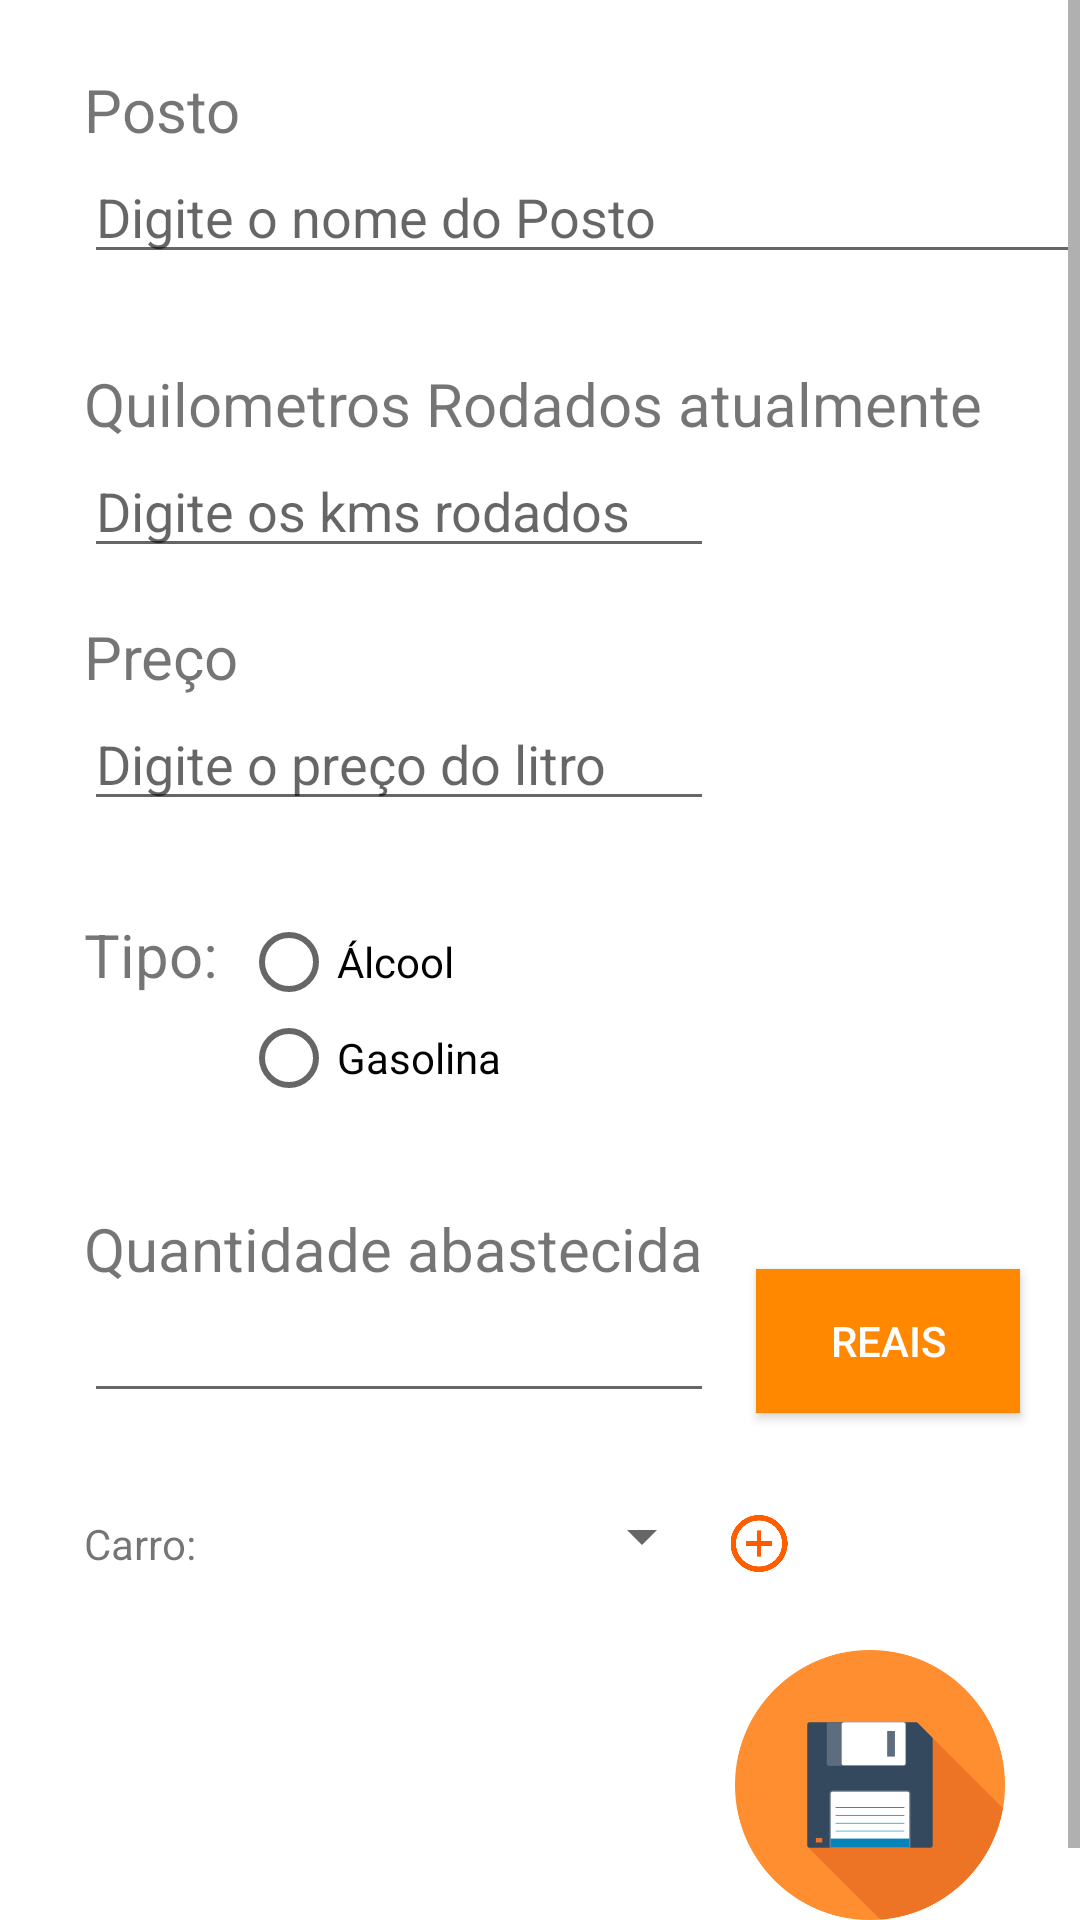

Icon click points for this 1080 × 1920 phone screenshot, format point (x, y):
novocarro: point (759, 1543)
salvar abastecimento: point (870, 1785)
